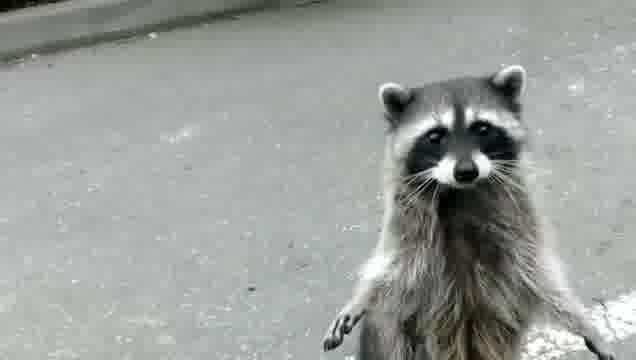raccoon: (319, 62, 636, 360)
